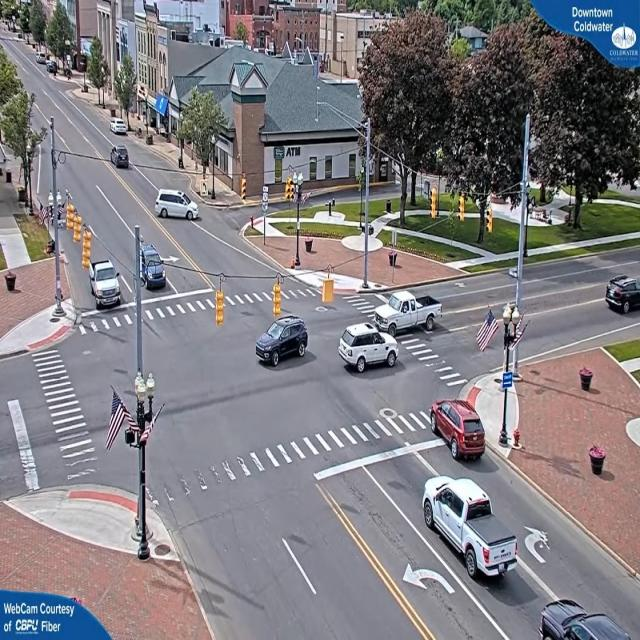car: (422, 476, 514, 584), (539, 602, 639, 639), (432, 401, 488, 462), (338, 325, 398, 374), (255, 315, 310, 367), (376, 289, 440, 332), (92, 260, 125, 310), (604, 273, 640, 313), (156, 190, 201, 222), (140, 244, 167, 290), (112, 148, 132, 170), (111, 120, 129, 136)
